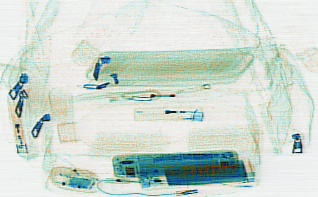lighter: (133, 103, 203, 123), (6, 101, 27, 153)
